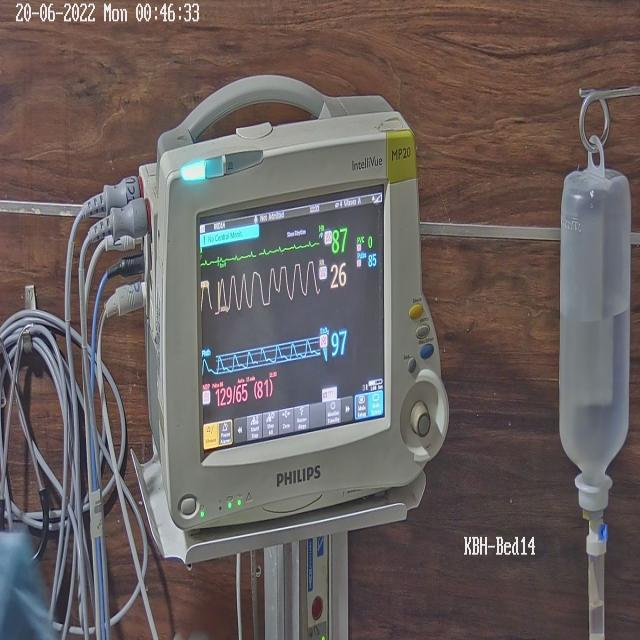Monitor: (137, 80, 450, 606)
Saline Stand: (549, 59, 640, 635)
